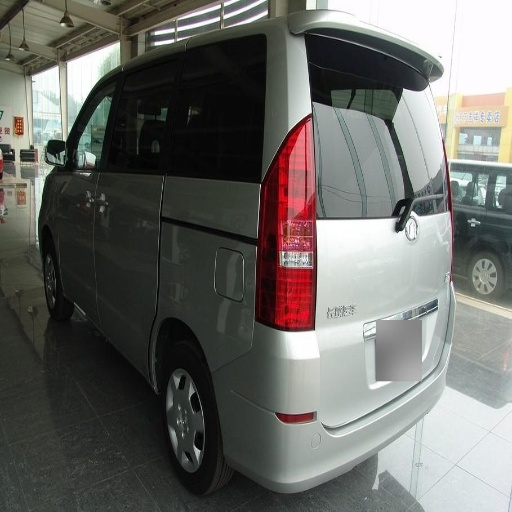back_bumper: (214, 327, 445, 492)
back_left_light: (255, 158, 314, 331)
trunk: (291, 199, 441, 421), (181, 226, 249, 362)
